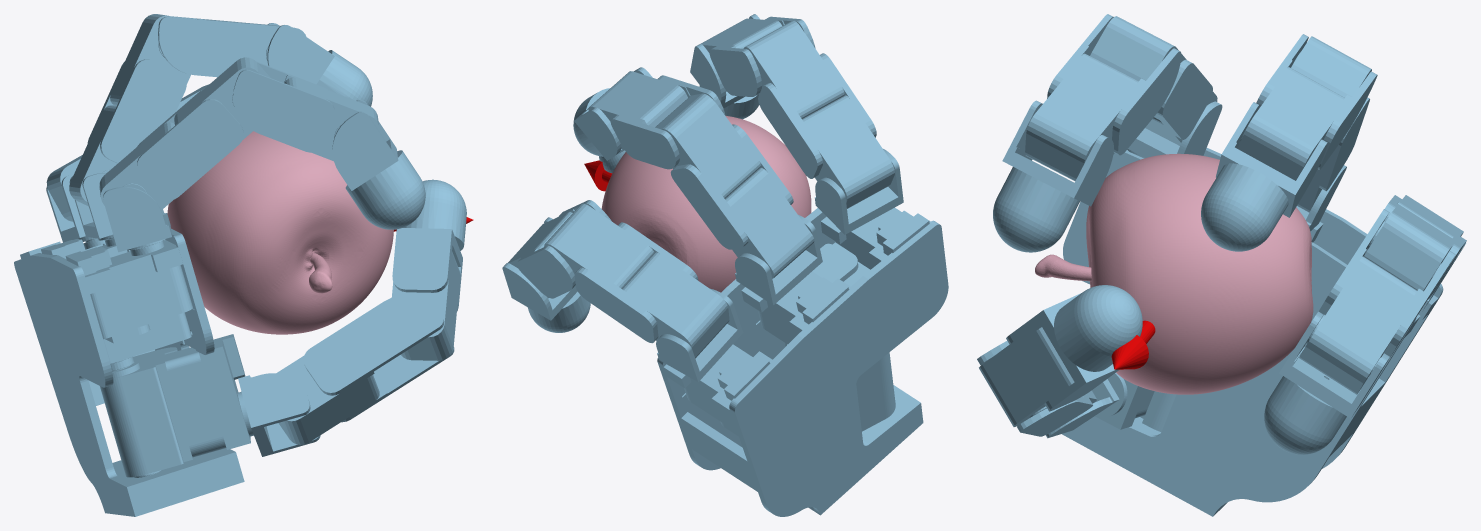
The picture shows the model from 3 angles, left to right: view 1: azimuth 30°, elevation 25°; view 2: azimuth 150°, elevation 25°; view 3: azimuth 270°, elevation 25°; orthographic projection. The views are drawn at different scales.
Visible parts, largest first — view 1: world, apple.stl; view 2: world, apple.stl; view 3: world, apple.stl.
Boxes of the visible parts, left/top/right/bottom form: world: left=14, top=14, right=473, bottom=516; apple.stl: left=167, top=131, right=393, bottom=334; world: left=502, top=14, right=948, bottom=516; apple.stl: left=601, top=115, right=811, bottom=292; world: left=977, top=14, right=1466, bottom=516; apple.stl: left=1035, top=153, right=1313, bottom=394.
Size of the model in its own units: 0.1581 by 0.1809 by 0.1553.
